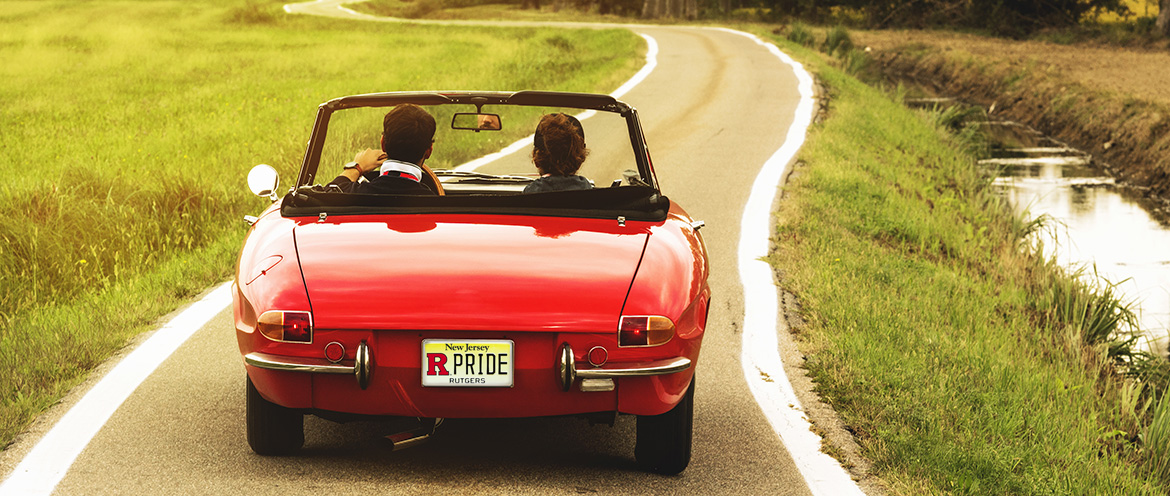license plate: (418, 337, 515, 389)
